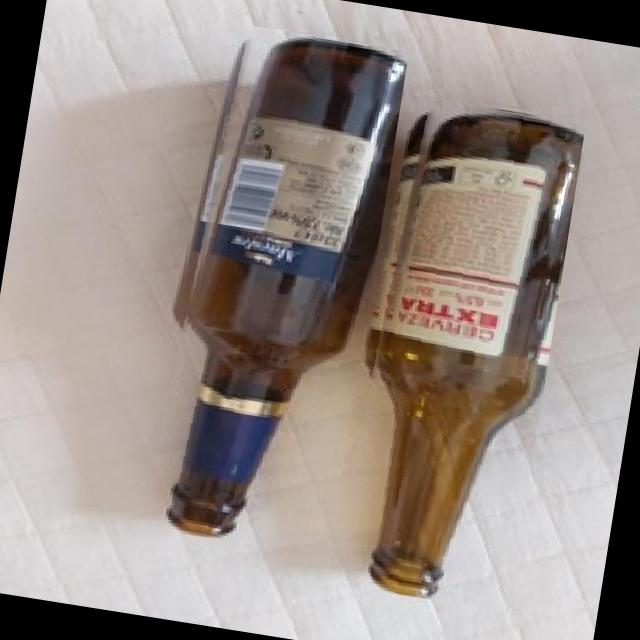Glass: (140, 19, 410, 556), (328, 91, 586, 612)
